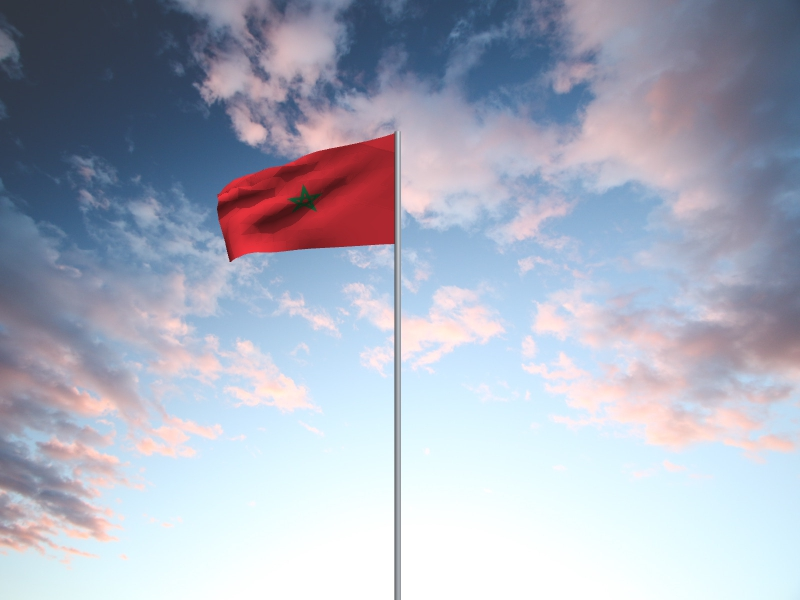ma: (216, 134, 395, 264)
